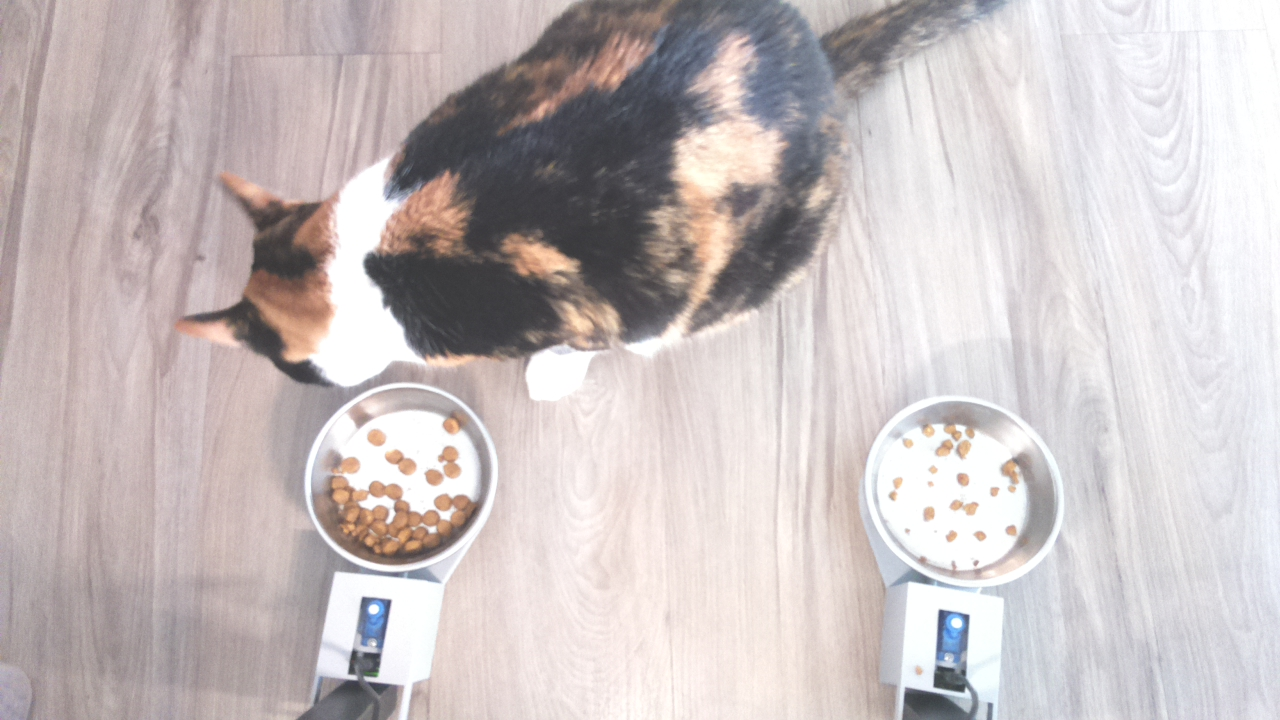bella: (180, 157, 416, 398)
open_bowl: (859, 391, 1069, 593), (301, 378, 497, 576)
